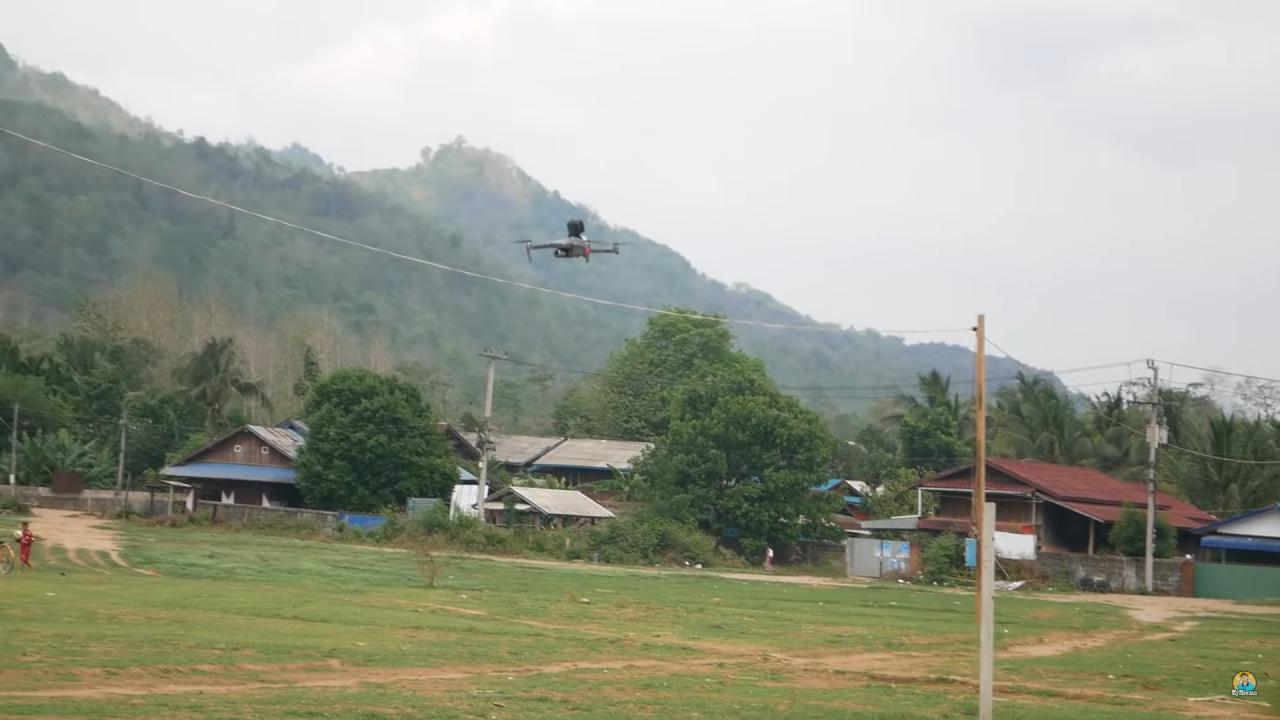Drone: (500, 211, 643, 275)
